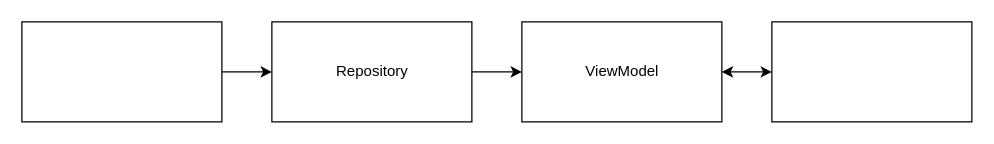
Some shapes in this 994 by 144 pixel diagram are drawn without their labels. Each missing label, with the centre of its shape:
Model: point (121, 71)
View: point (871, 71)
